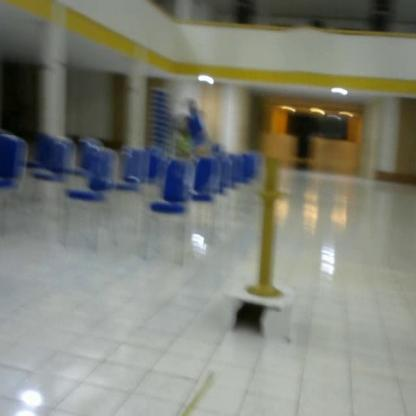pole: (245, 156, 292, 303)
